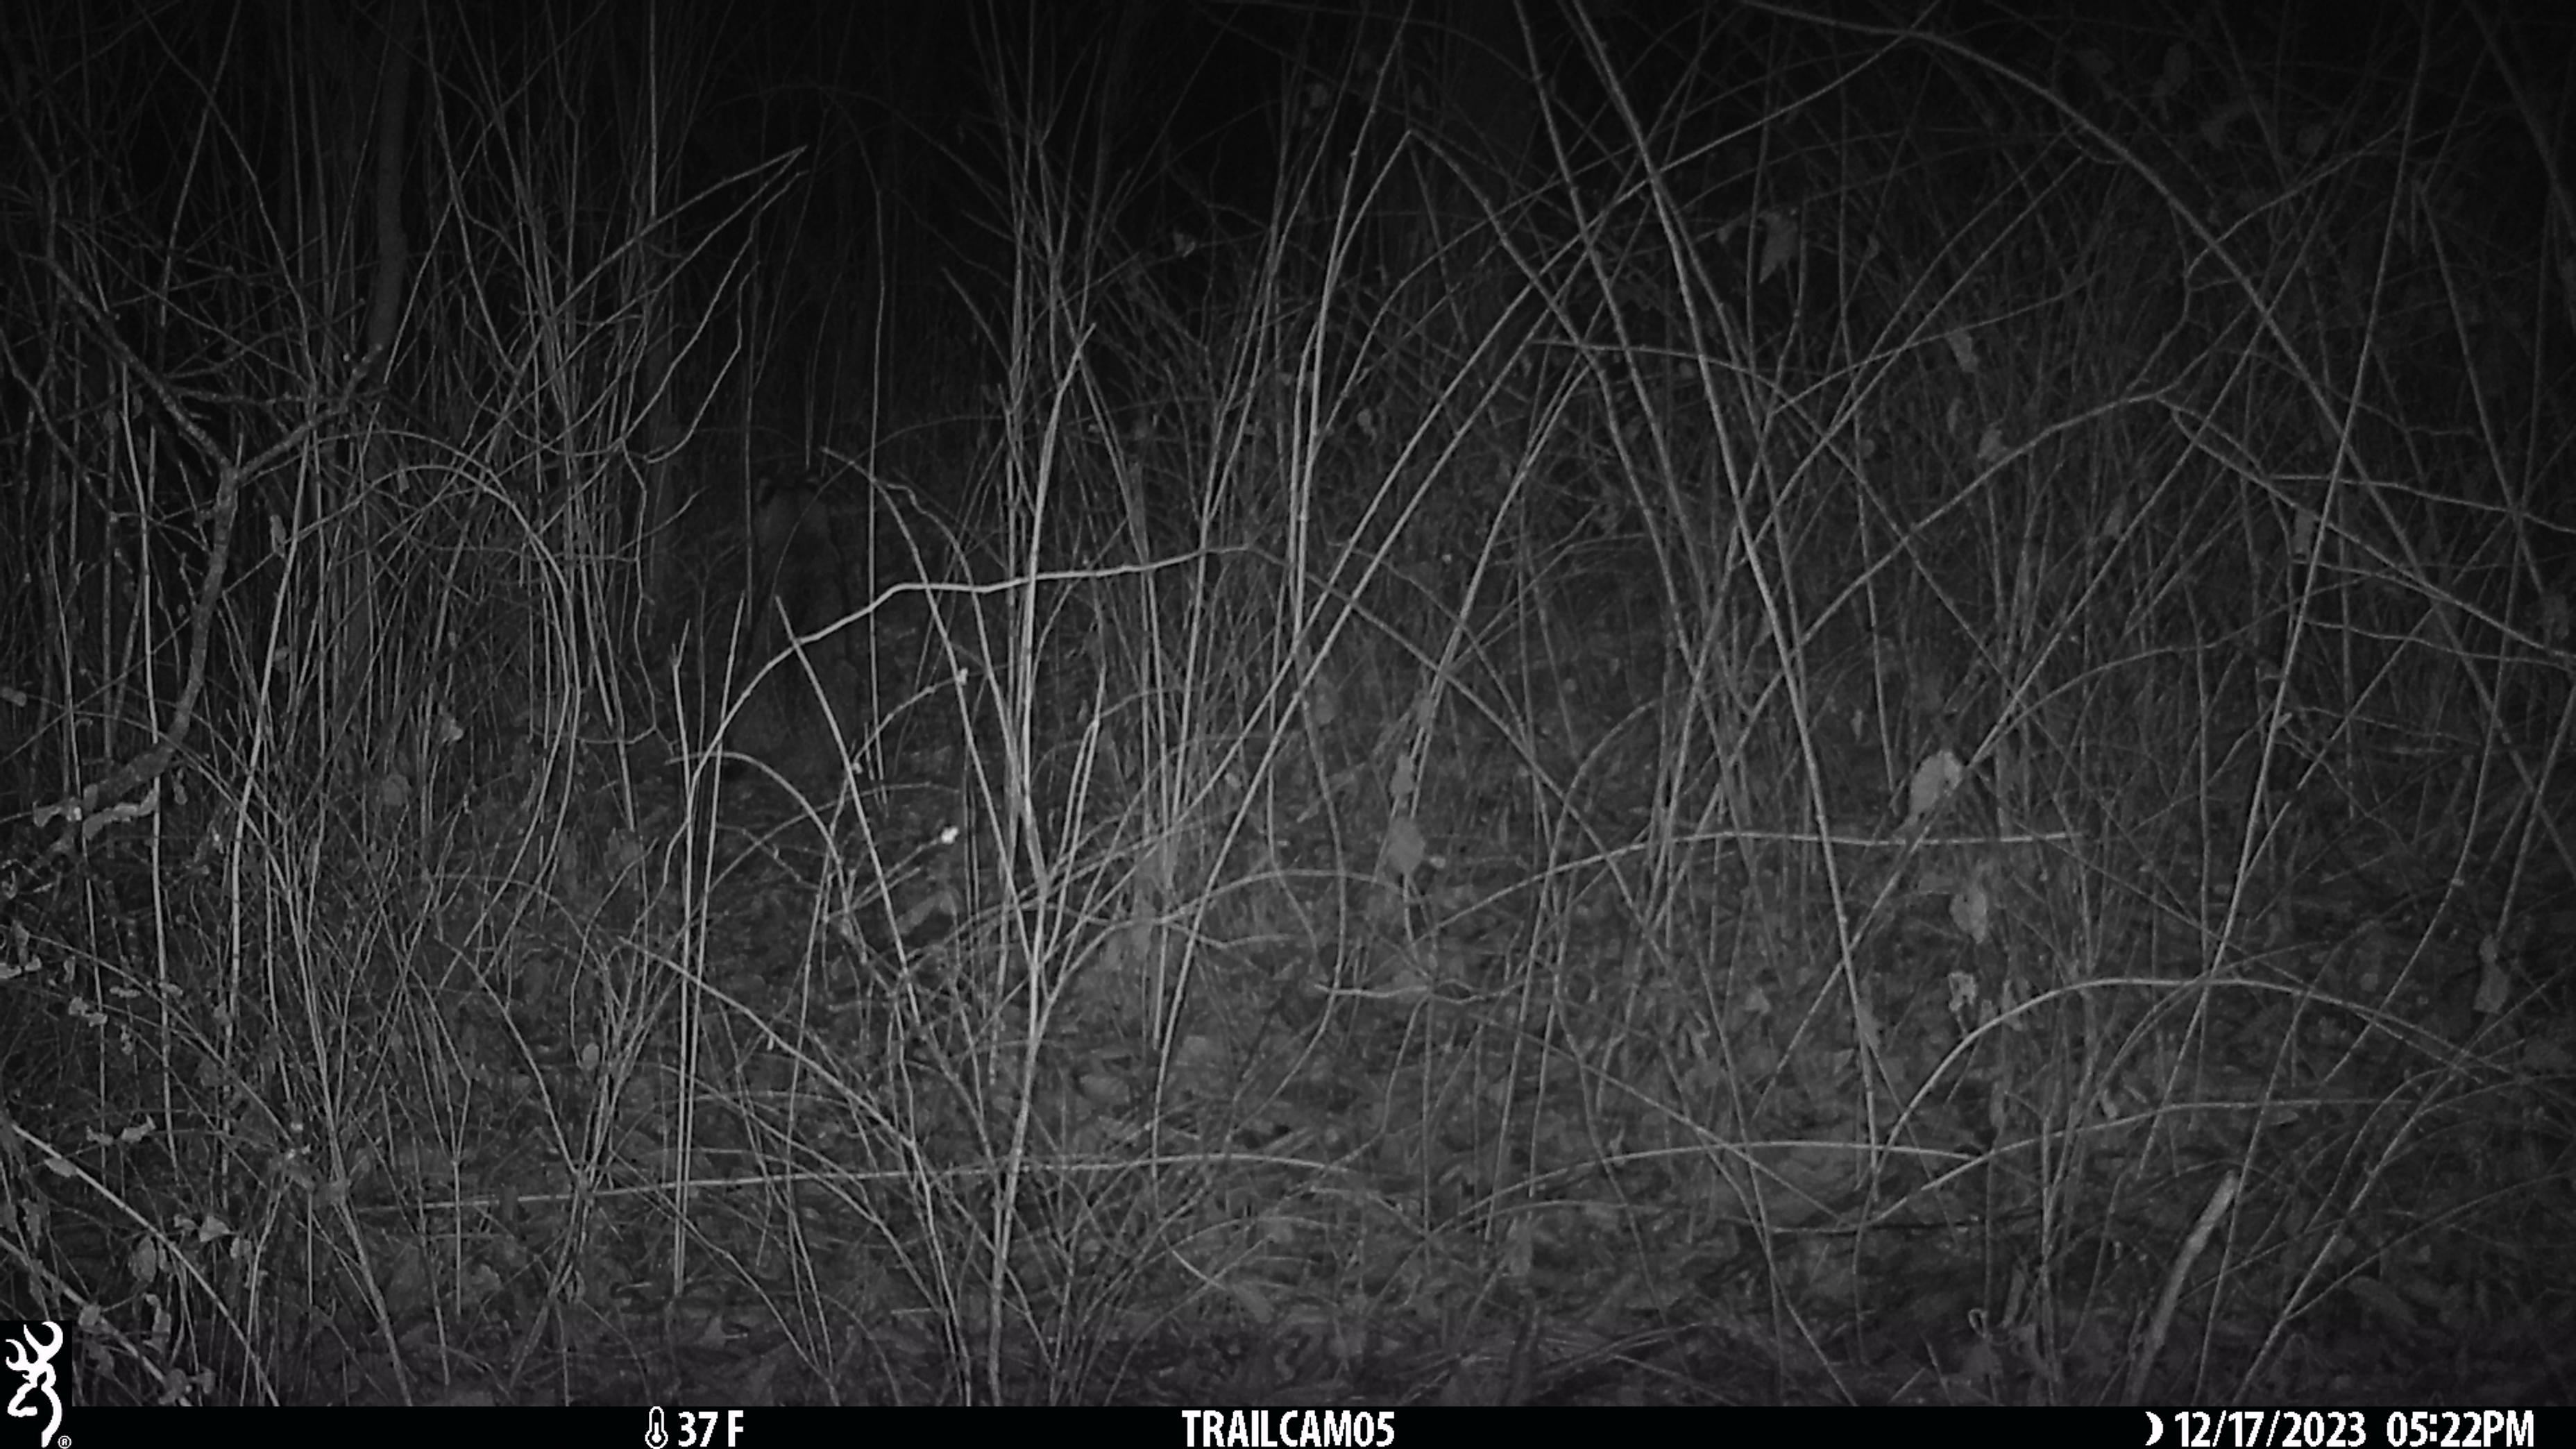Bobcat: (722, 467, 863, 787)
